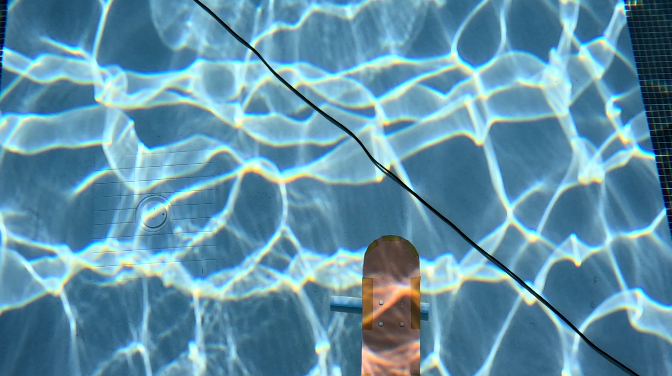pathmarker: (362, 236, 420, 375)
